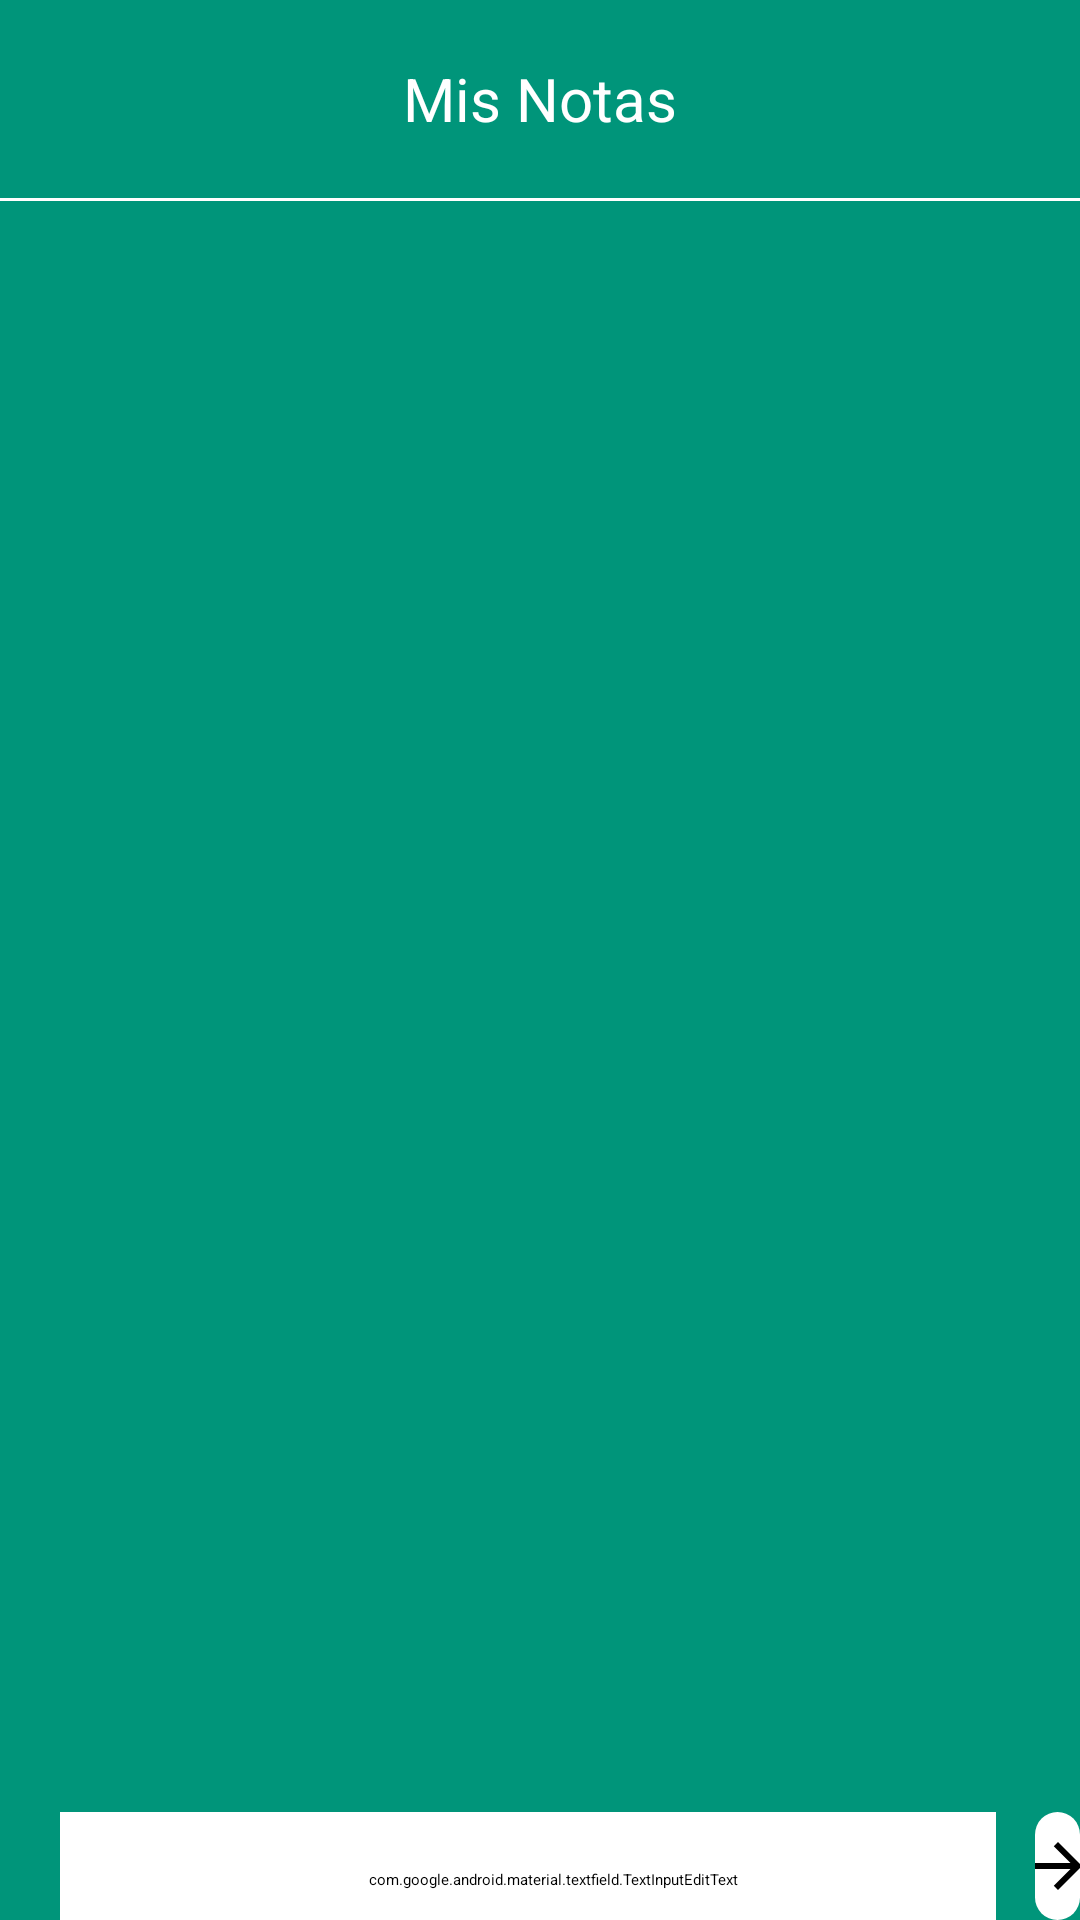

Point at icon controls on the screen. Image size 1080px x 1920px, points as (x=x, y=y).
arrow forward: (x=1057, y=1866)
